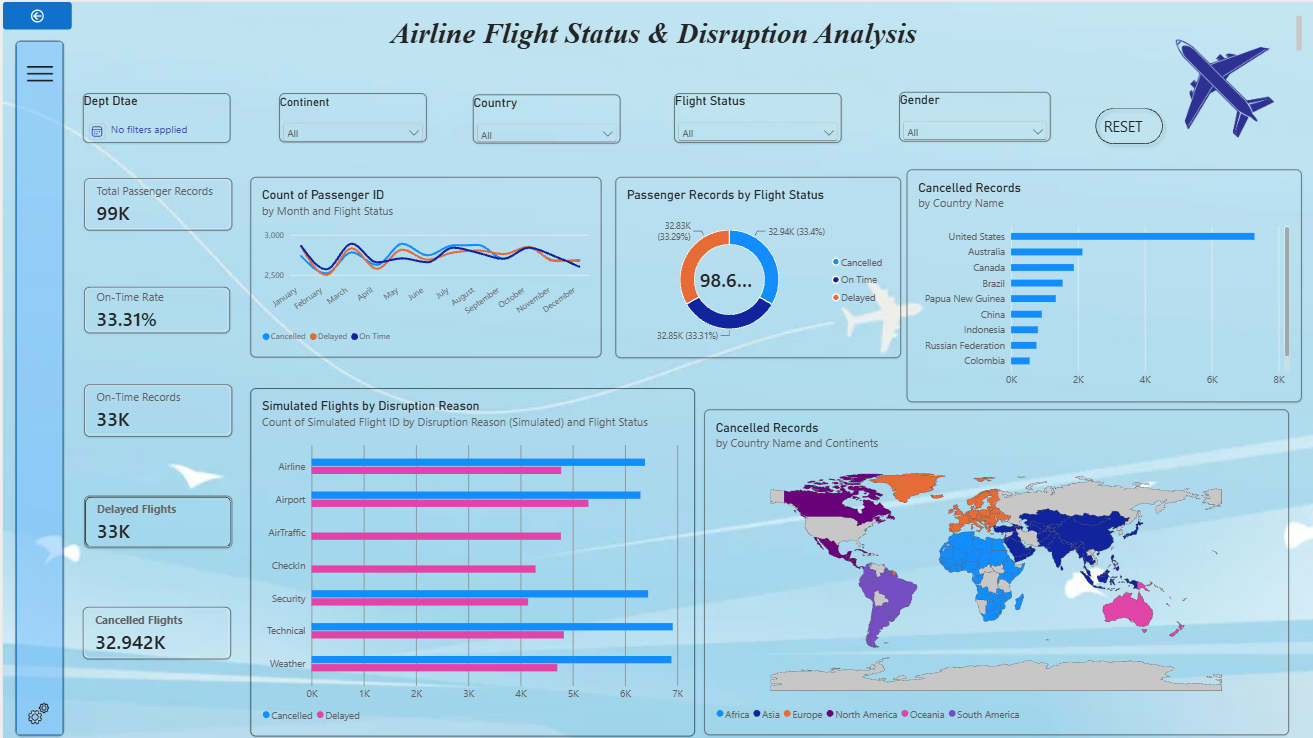

This screenshot's page, from the dashboard's own definition file:
{"tool":"powerbi","page":{"name":"Page 1","canvas":[1920,1080],"ordinal":0},"visuals":[{"type":"textbox","box":[10,20,1878,58],"z":0},{"type":"actionButton","box":[0,0,100,40],"z":1000},{"type":"slicer","title":"Dept Dtae","fields":{"Values":["Airline Dataset Updated - v2.Dept Date"]},"box":[116,132,214.3,72],"z":2000},{"type":"slicer","title":"Continent","fields":{"Values":["Airline Dataset Updated - v2.Continents"]},"box":[402,132,214.3,71.4],"z":3000},{"type":"slicer","title":"Country","fields":{"Values":["Airline Dataset Updated - v2.Country Name"]},"box":[684,134,214.3,71.4],"z":4000},{"type":"slicer","title":"Flight Status","fields":{"Values":["Airline Dataset Updated - v2.Flight Status"]},"box":[976,132,243.3,71.7],"z":5000},{"type":"slicer","title":"Gender","fields":{"Values":["Airline Dataset Updated - v2.Gender"]},"box":[1304,130,220,71.7],"z":6000},{"type":"actionButton","box":[1580,146,116,70],"z":7000},{"type":"cardVisual","fields":{"Data":["Airline Dataset Updated - v2.Cancelled Records"]},"box":[116.7,879.6,214.8,75.9],"z":8000},{"type":"cardVisual","fields":{"Data":["Airline Dataset Updated - v2.Delayed Records"]},"box":[117.6,718.4,214.8,75.9],"z":9000},{"type":"cardVisual","fields":{"Data":["Airline Dataset Updated - v2.Total Passenger Records"]},"box":[117.6,257,214.8,75.9],"z":10000},{"type":"cardVisual","fields":{"Data":["Airline Dataset Updated - v2.On-Time Records"]},"box":[117.6,555.6,214.8,75.9],"z":11000},{"type":"lineChart","fields":{"Category":["Airline Dataset Updated - v2.Dept Date.Variation.Date Hierarchy.Month"],"Series":["Airline Dataset Updated - v2.Flight Status"],"Y":["CountNonNull(Airline Dataset Updated - v2.Passenger ID)"]},"box":[360,254,510.3,262.4],"z":12000},{"type":"donutChart","title":"Passenger Records by Flight Status","fields":{"Category":["Airline Dataset Updated - v2.Flight Status"],"Y":["CountNonNull(Airline Dataset Updated - v2.Passenger ID)"]},"box":[890,254,414.8,263],"z":13000},{"type":"clusteredBarChart","fields":{"Category":["Airline Dataset Updated - v2.Country Name"],"Y":["Airline Dataset Updated - v2.Cancelled Records"]},"box":[1314,244,574,338],"z":14000},{"type":"shape","box":[18,56,70.4,1011.1],"z":15000},{"type":"image","box":[30,78,47.9,55],"z":16000},{"type":"image","box":[20,1018,63.3,33.3],"z":17000},{"type":"cardVisual","fields":{"Data":["Airline Dataset Updated - v2.On-Time Rate"]},"box":[117.6,414.4,211.7,67],"z":18000},{"type":"shapeMap","fields":{"Category":["Airline Dataset Updated - v2.Country Name"],"Series":["Airline Dataset Updated - v2.Continents"],"Value":["Airline Dataset Updated - v2.Cancelled Records"]},"box":[1020.6,593.6,850,473.9],"z":19000},{"type":"image","box":[1665.2,51.5,223.8,150],"z":20000},{"type":"clusteredBarChart","title":"Simulated Flights by Disruption Reason","fields":{"Category":["Airline Dataset Updated - v2.Disruption Reason (Simulated)"],"Series":["Airline Dataset Updated - v2.Flight Status"],"Y":["Count(Airline Dataset Updated - v2.Simulated Flight ID)"]},"box":[360.1,561,646,506.7],"z":21000}]}

Visuals, with their boxes on the page's 1920x1080 design canvas (x1, y1, x2, y2). These are canvas units, not pixel positions in the 1313x738 screenshot, which may show the page scaled, cropped or inside an application window:
textbox: rect(10, 20, 1888, 78)
actionButton: rect(0, 0, 100, 40)
"Dept Dtae" slicer: rect(116, 132, 330, 204)
"Continent" slicer: rect(402, 132, 616, 203)
"Country" slicer: rect(684, 134, 898, 205)
"Flight Status" slicer: rect(976, 132, 1219, 204)
"Gender" slicer: rect(1304, 130, 1524, 202)
actionButton: rect(1580, 146, 1696, 216)
cardVisual - Airline Dataset Updated - v2.Cancelled Records: rect(117, 880, 332, 956)
cardVisual - Airline Dataset Updated - v2.Delayed Records: rect(118, 718, 332, 794)
cardVisual - Airline Dataset Updated - v2.Total Passenger Records: rect(118, 257, 332, 333)
cardVisual - Airline Dataset Updated - v2.On-Time Records: rect(118, 556, 332, 632)
lineChart - Airline Dataset Updated - v2.Dept Date.Variation.Date Hierarchy.Month x Airline Dataset Updated - v2.Flight Status: rect(360, 254, 870, 516)
"Passenger Records by Flight Status" donutChart: rect(890, 254, 1305, 517)
clusteredBarChart - Airline Dataset Updated - v2.Country Name x Airline Dataset Updated - v2.Cancelled Records: rect(1314, 244, 1888, 582)
shape: rect(18, 56, 88, 1067)
image: rect(30, 78, 78, 133)
image: rect(20, 1018, 83, 1051)
cardVisual - Airline Dataset Updated - v2.On-Time Rate: rect(118, 414, 329, 481)
shapeMap - Airline Dataset Updated - v2.Country Name x Airline Dataset Updated - v2.Continents: rect(1021, 594, 1871, 1068)
image: rect(1665, 52, 1889, 202)
"Simulated Flights by Disruption Reason" clusteredBarChart: rect(360, 561, 1006, 1068)
